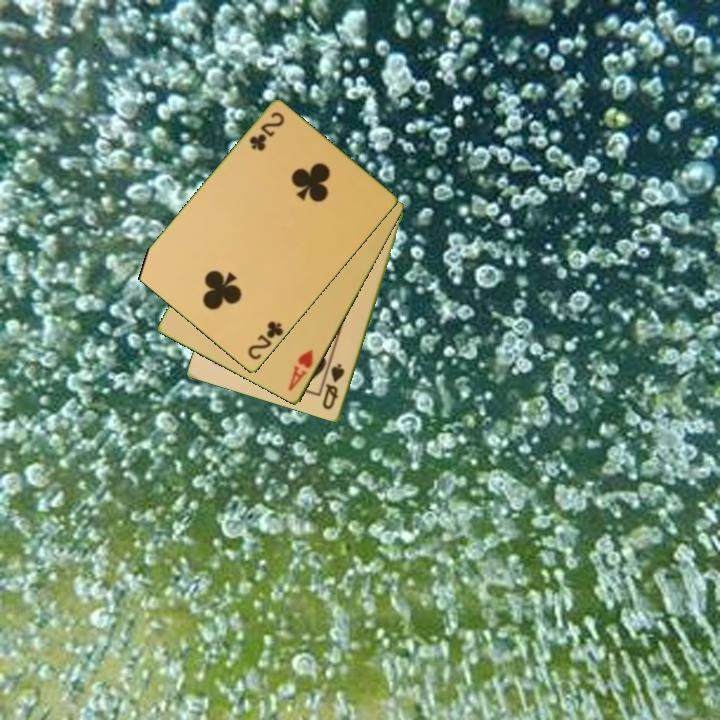2c: (244, 318, 287, 363), (246, 109, 287, 154)
Ah: (285, 346, 316, 394)
Qs: (319, 360, 348, 413)
